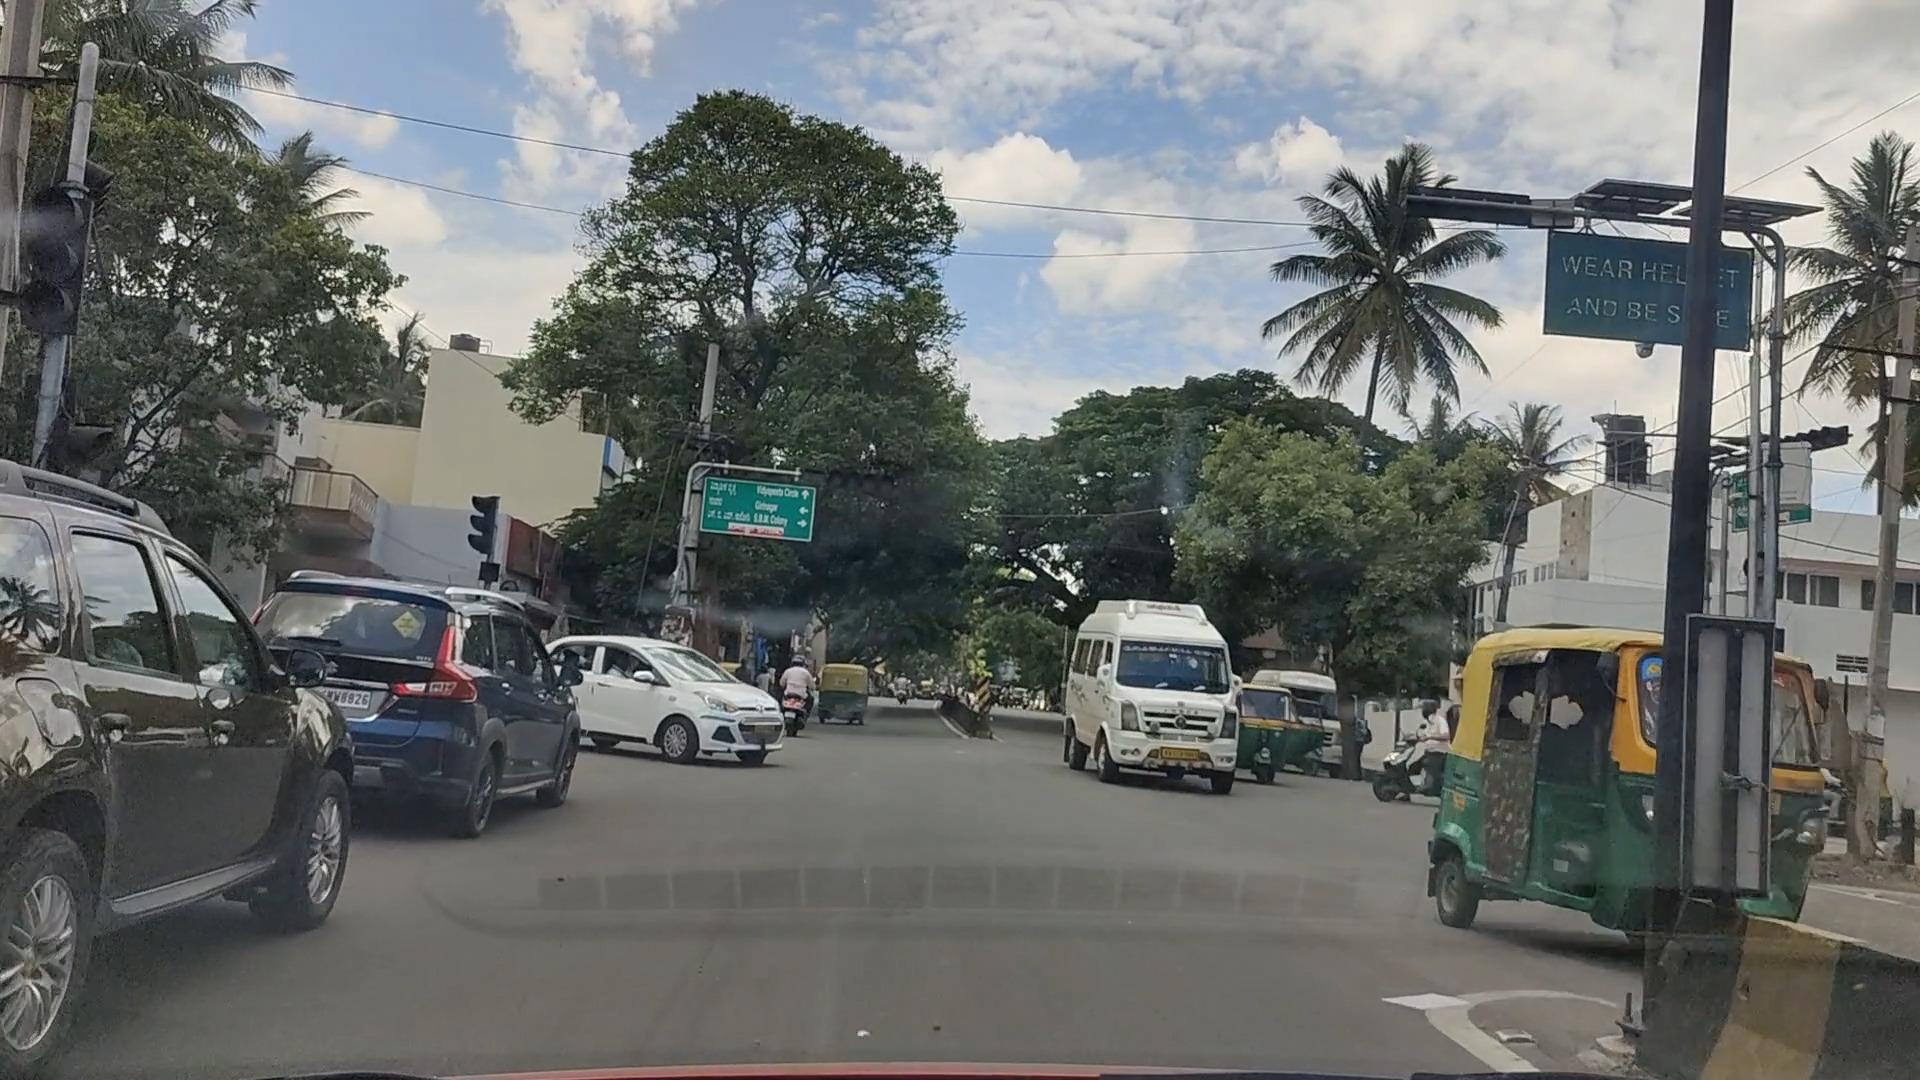LMV: (16, 454, 355, 1063), (298, 558, 589, 831), (558, 600, 790, 781)
